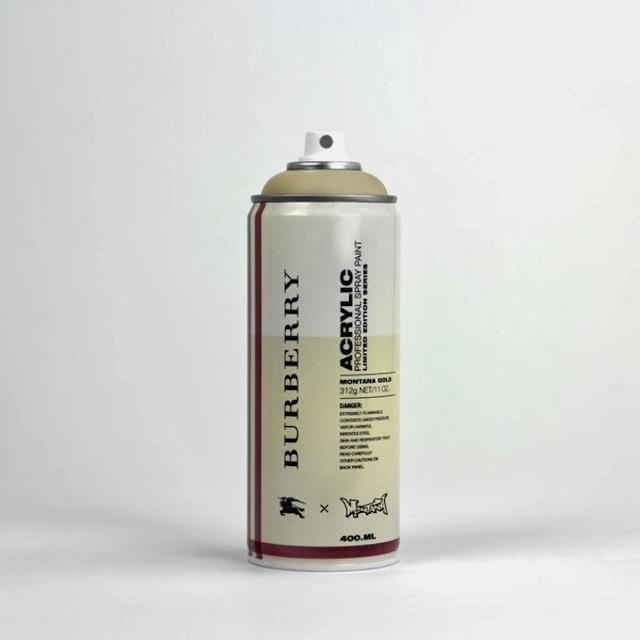chemical_spray_can: (248, 131, 400, 572)
